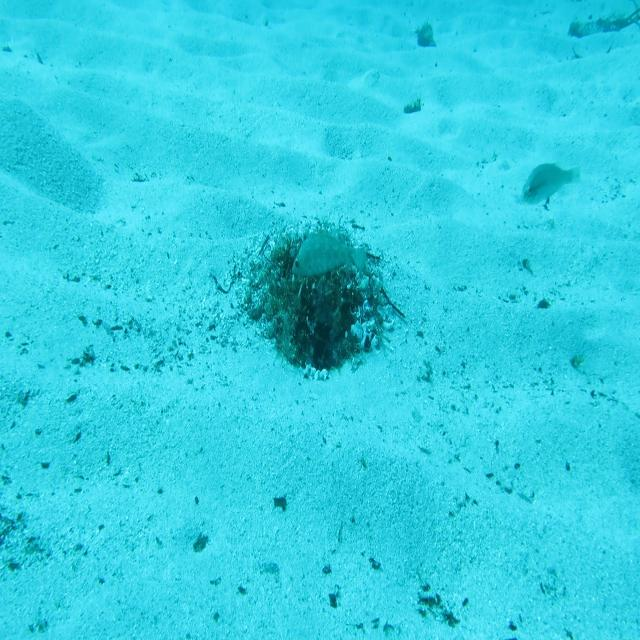INSF: (291, 229, 368, 282)
core_nest: (274, 243, 336, 285)
female: (520, 161, 584, 206)
nest: (233, 210, 398, 384)
vegetation: (566, 2, 640, 38), (414, 22, 439, 48), (404, 97, 424, 117), (271, 494, 289, 512)
